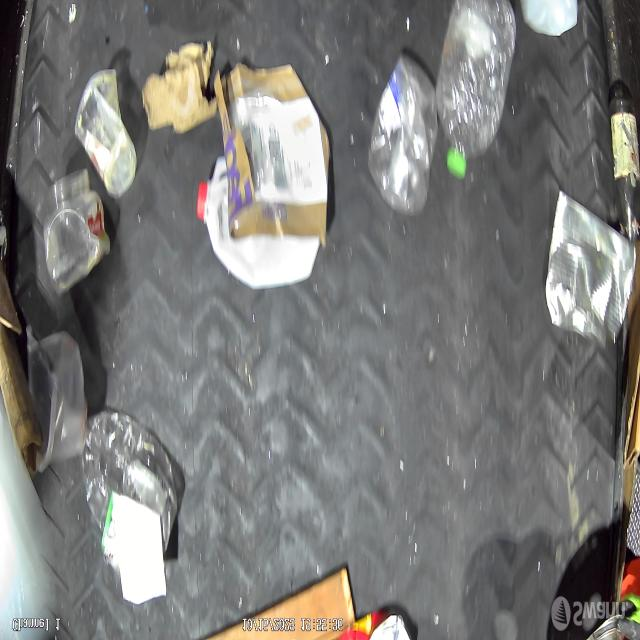can: (545, 183, 639, 342), (368, 55, 438, 228)
milk_jug: (196, 158, 322, 298)
plastic_bottle: (435, 0, 524, 181), (84, 410, 177, 572)
